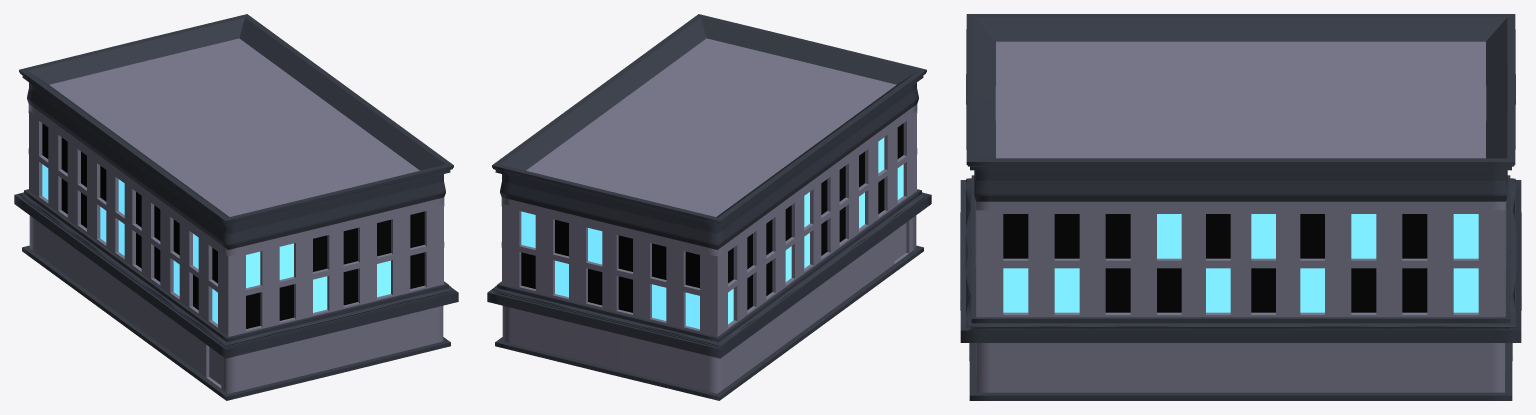
Rendered from Building2 blue.fbx.
3 views of the same model, side by side, from view 1: azimuth 30°, elevation 25°; view 2: azimuth 150°, elevation 25°; view 3: azimuth 270°, elevation 25° (orthographic). The views are drawn at different scales.
Parts seen in each view (by area): view 1: Object001.003; view 2: Object001.003; view 3: Object001.003.
Part boxes in pixels (x1,y1,x2,y2): Object001.003: (14, 14, 458, 400); Object001.003: (487, 14, 931, 400); Object001.003: (960, 14, 1521, 400).
Size of the model in its own units: 4189 by 3115 by 6596.
